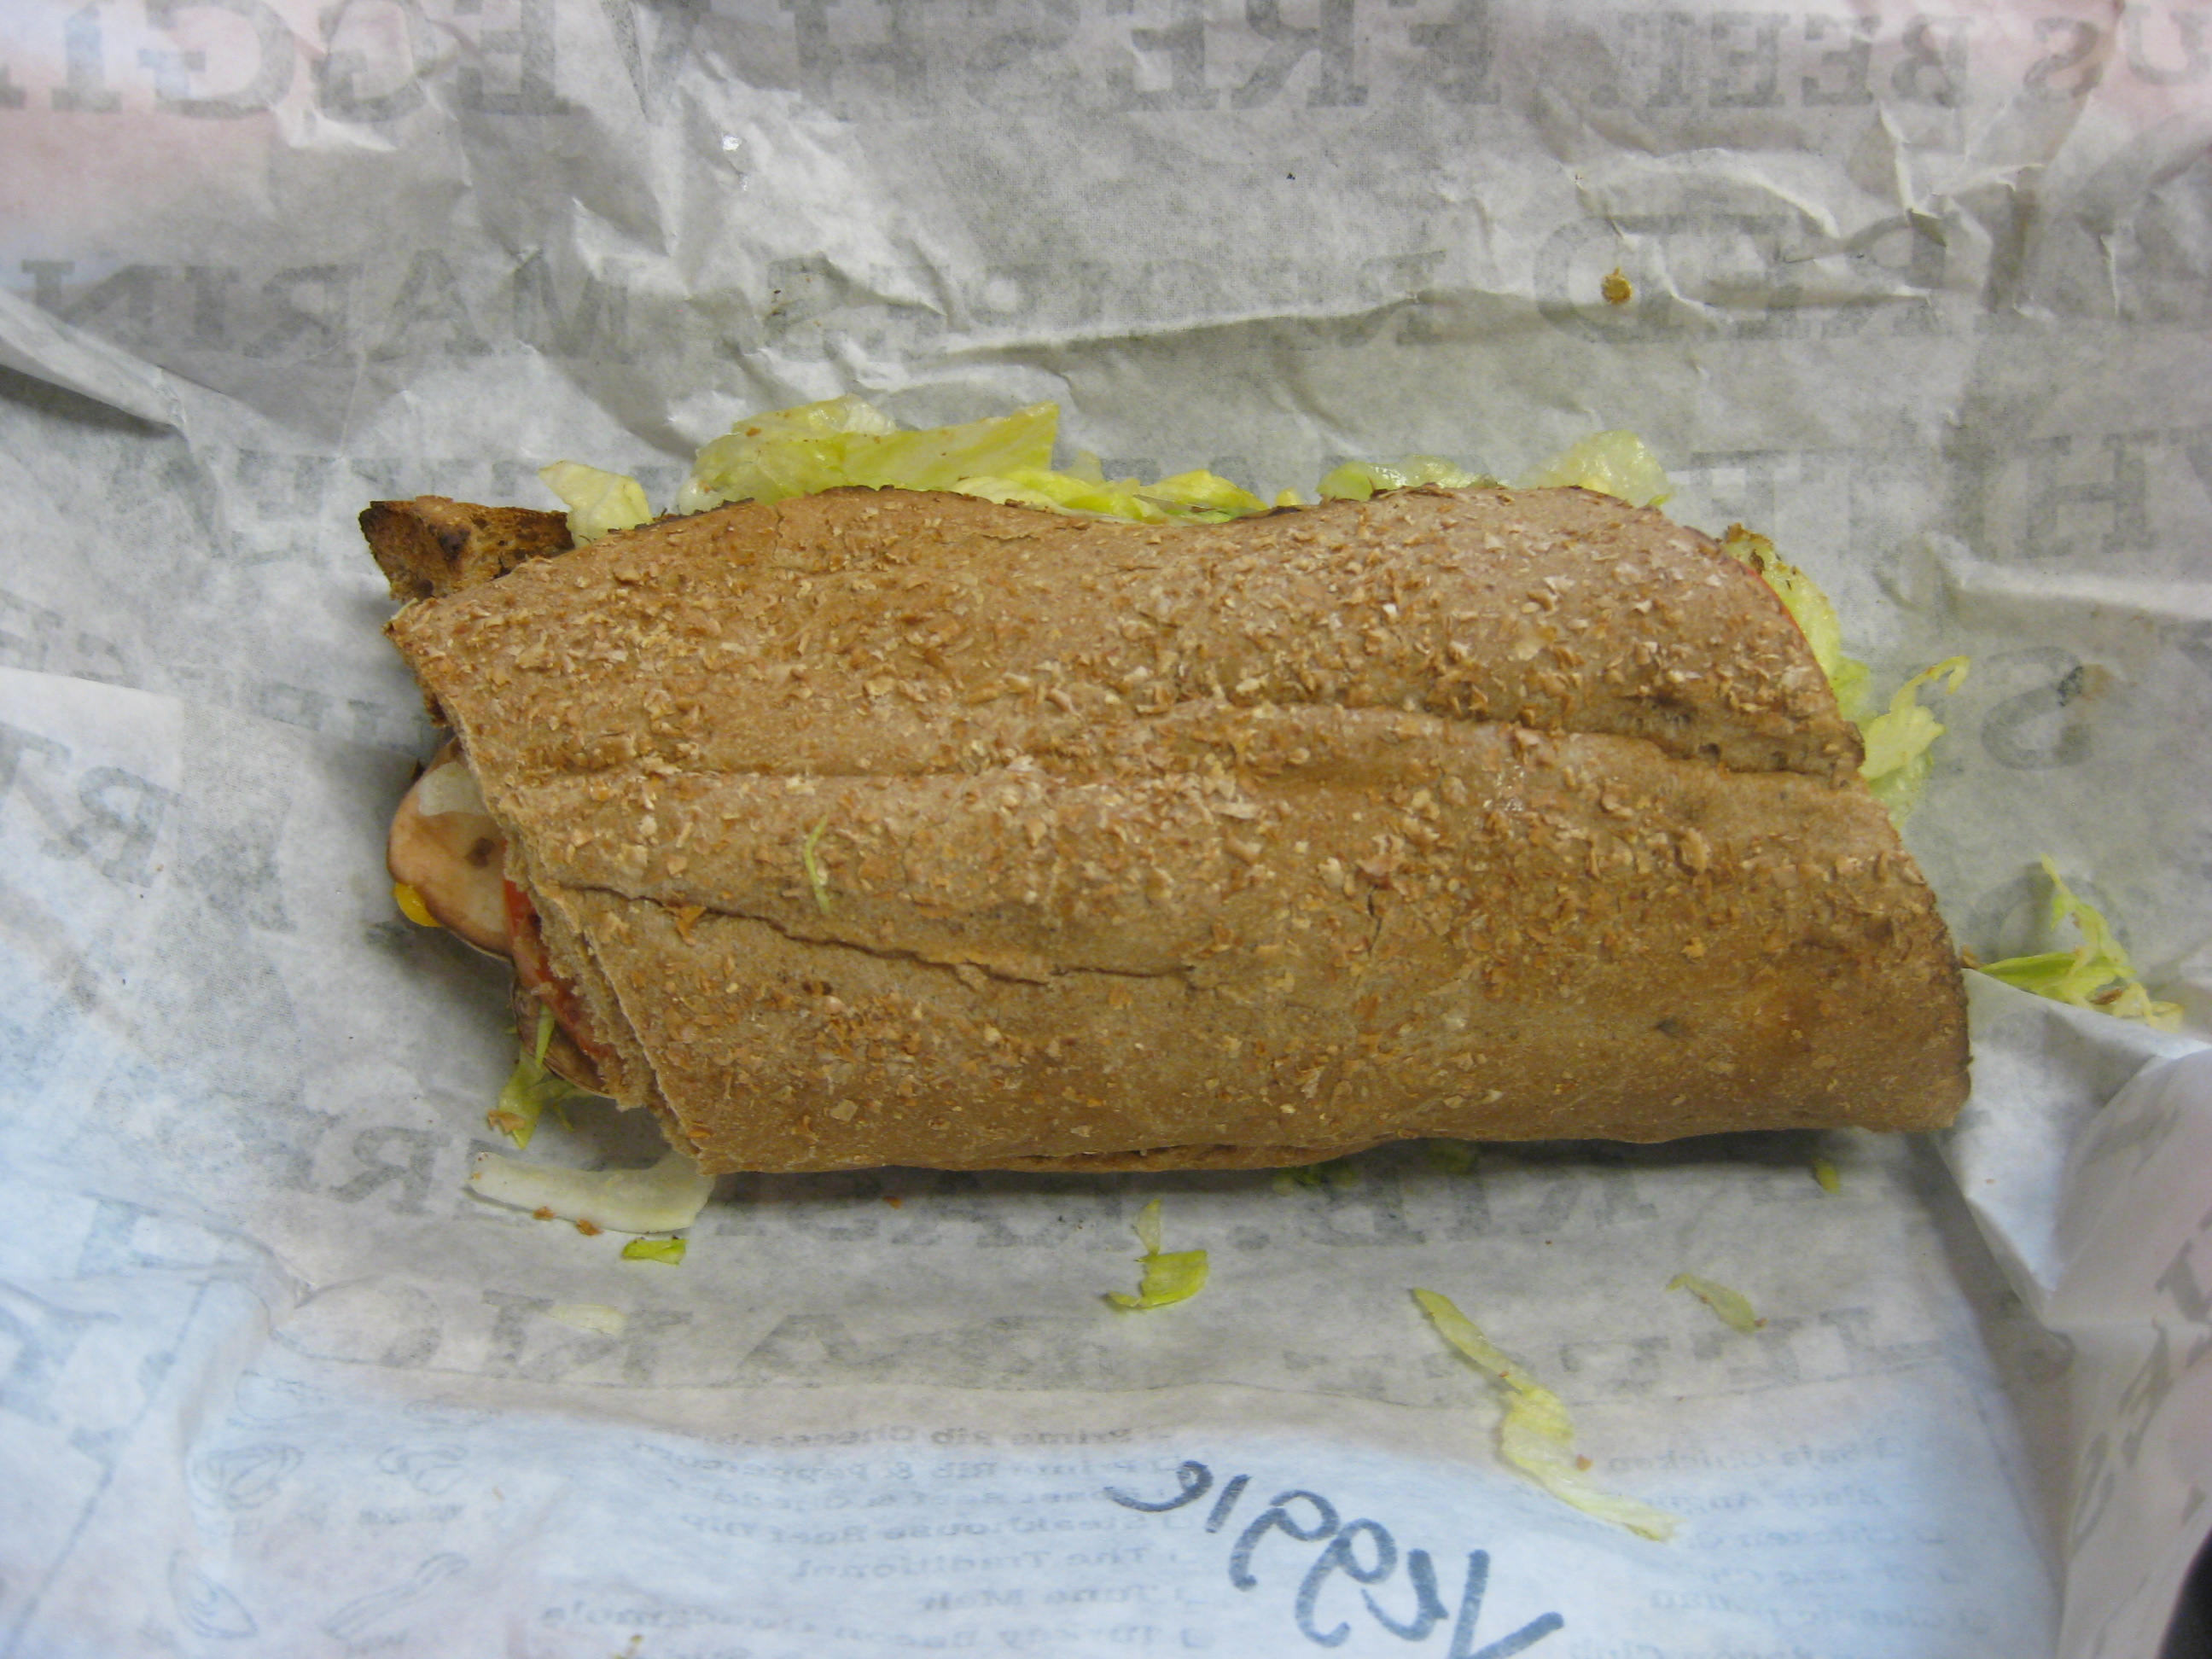sub: (288, 336, 2067, 1258)
